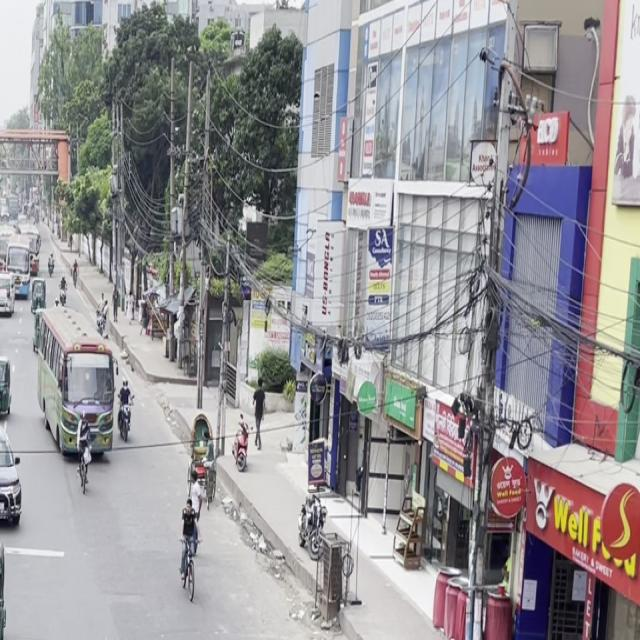bicycle: (170, 482, 207, 605), (74, 425, 95, 500)
bus: (30, 303, 122, 468)
car: (0, 419, 29, 536), (296, 629, 458, 640)
motorbike: (114, 379, 136, 447)
rickshaw: (0, 528, 13, 640), (0, 352, 17, 422), (0, 629, 81, 639)
